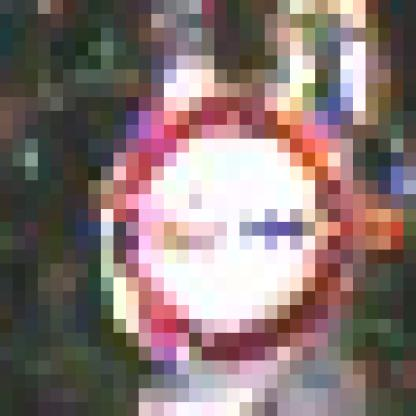No Overtaking: (77, 70, 341, 334)
